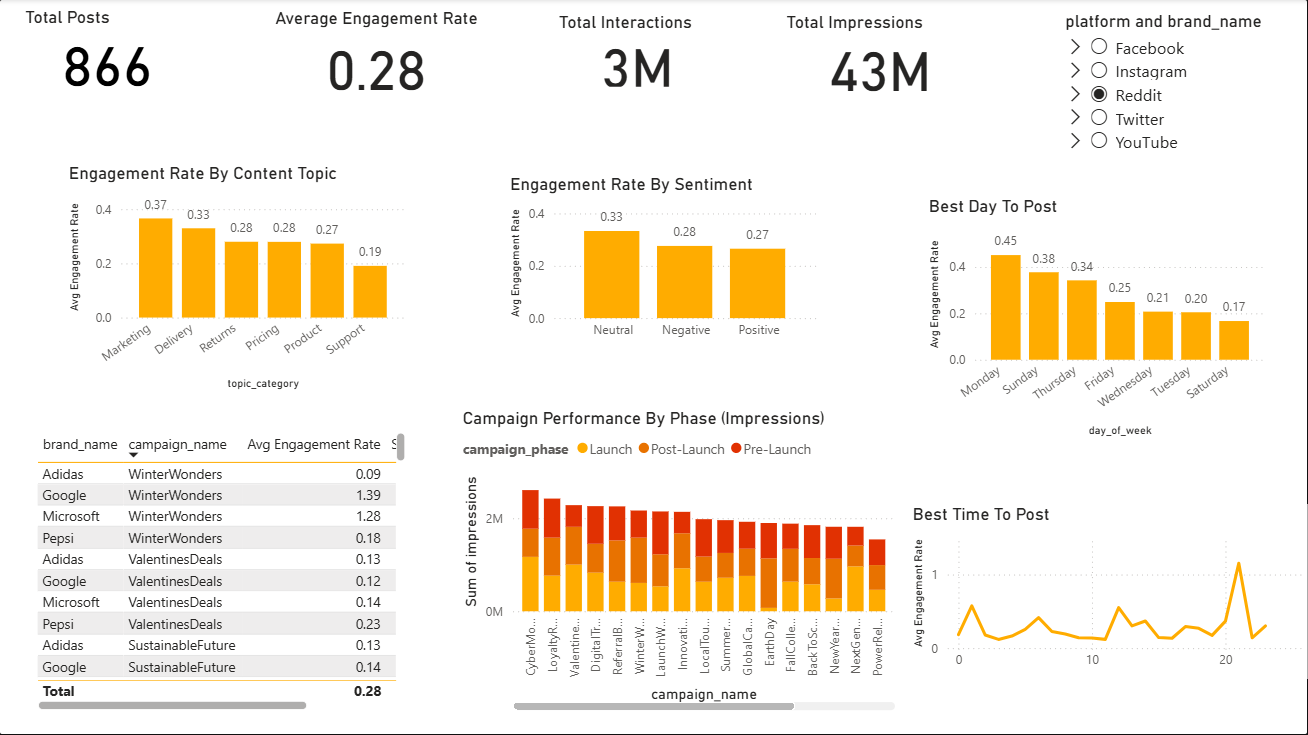

What the dashboard file says about the page in this screenshot:
{"tool":"powerbi","page":{"name":"Page 1","canvas":[1280,720],"ordinal":0},"visuals":[{"type":"card","title":"Total Posts","fields":{"Values":["CountNonNull(social_media_final.post_id)"]},"box":[21.4,7.1,171,84.1],"z":0},{"type":"card","title":"Average Engagement Rate","fields":{"Values":["Avg(social_media_final.engagement_rate)"]},"box":[265.1,8.6,208.1,89.8],"z":1000},{"type":"card","title":"Total Impressions","fields":{"Values":["Sum(social_media_final.impressions)"]},"box":[765.4,12.8,193.9,84.1],"z":2000},{"type":"card","title":"Total Interactions","fields":{"Values":["social_media_final.Total Interactions"]},"box":[543.1,12.8,163.9,78.4],"z":3000},{"type":"clusteredColumnChart","title":"Engagement Rate By Content Topic","fields":{"Category":["social_media_final.topic_category"],"Y":["social_media_final.Avg Engagement Rate"]},"box":[63.6,160.2,338.7,227.4],"z":4000},{"type":"clusteredColumnChart","title":"Engagement Rate By Sentiment","fields":{"Category":["social_media_final.sentiment_label"],"Y":["social_media_final.Avg Engagement Rate"]},"box":[495.2,171.2,310.6,171.2],"z":5000},{"type":"clusteredColumnChart","title":"Best Day To Post (Avg Engagement Rate)","fields":{"Category":["social_media_final.day_of_week"],"Y":["social_media_final.Avg Engagement Rate"]},"box":[904.9,192,338.7,240.9],"z":6000},{"type":"lineChart","title":"Best Time To Post","fields":{"Category":["social_media_final.post_hour"],"Y":["social_media_final.Avg Engagement Rate"]},"box":[889,494,391.3,171.2],"z":7000},{"type":"columnChart","title":"Campaign Performance By Phase (Impressions)","fields":{"Category":["social_media_final.campaign_name"],"Y":["Sum(social_media_final.impressions)"],"Series":["social_media_final.campaign_phase"]},"box":[448.8,399.9,432.9,300.8],"z":8000},{"type":"tableEx","fields":{"Values":["social_media_final.brand_name","social_media_final.campaign_name","social_media_final.Avg Engagement Rate","Sum(social_media_final.impressions)"]},"box":[31.8,419.4,370.5,281.3],"z":9000},{"type":"listSlicer","fields":{"Values":["social_media_final.platform","social_media_final.brand_name","social_media_final.sentiment_label"]},"box":[1038.2,11,205.4,212.8],"z":10000}]}

Visuals, with their boxes in screenshot pixels (x1, y1, x2, y2), scaled from the page's 1280x720 canvas onto the 1308x735 screenshot:
"Total Posts" card: detection(22, 7, 197, 93)
"Average Engagement Rate" card: detection(271, 9, 484, 100)
"Total Impressions" card: detection(782, 13, 980, 99)
"Total Interactions" card: detection(555, 13, 722, 93)
"Engagement Rate By Content Topic" clusteredColumnChart: detection(65, 164, 411, 396)
"Engagement Rate By Sentiment" clusteredColumnChart: detection(506, 175, 823, 350)
"Best Day To Post (Avg Engagement Rate)" clusteredColumnChart: detection(925, 196, 1271, 442)
"Best Time To Post" lineChart: detection(908, 504, 1307, 679)
"Campaign Performance By Phase (Impressions)" columnChart: detection(459, 408, 901, 715)
tableEx - social_media_final.brand_name x social_media_final.campaign_name: detection(32, 428, 411, 715)
listSlicer - social_media_final.platform x social_media_final.brand_name: detection(1061, 11, 1271, 228)
